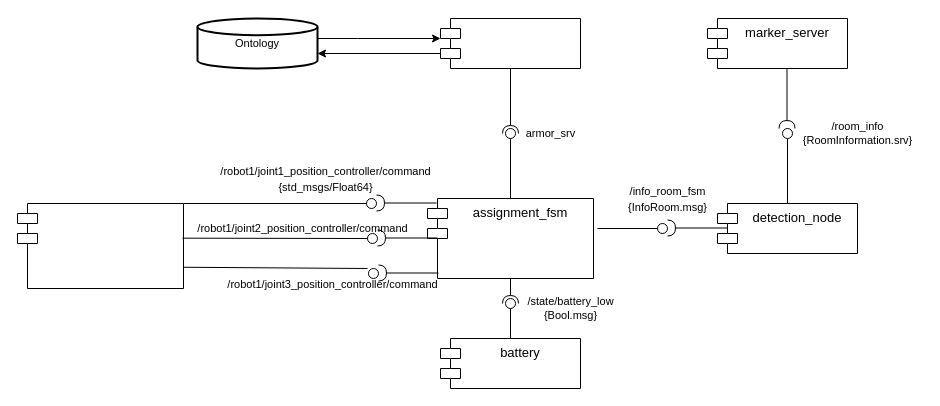
Some shapes in this 940 by 406 pixel diagram are drawn without their labels. Here are the shapes that lost their labels. From the top down, the box of each, then its label:
(440, 18, 580, 68): armor service
(16, 202, 184, 288): gazebo
